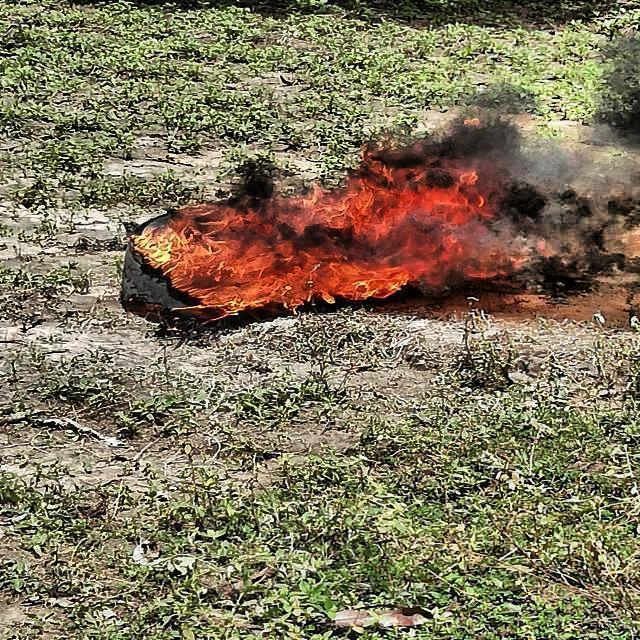fire: (140, 151, 545, 316)
